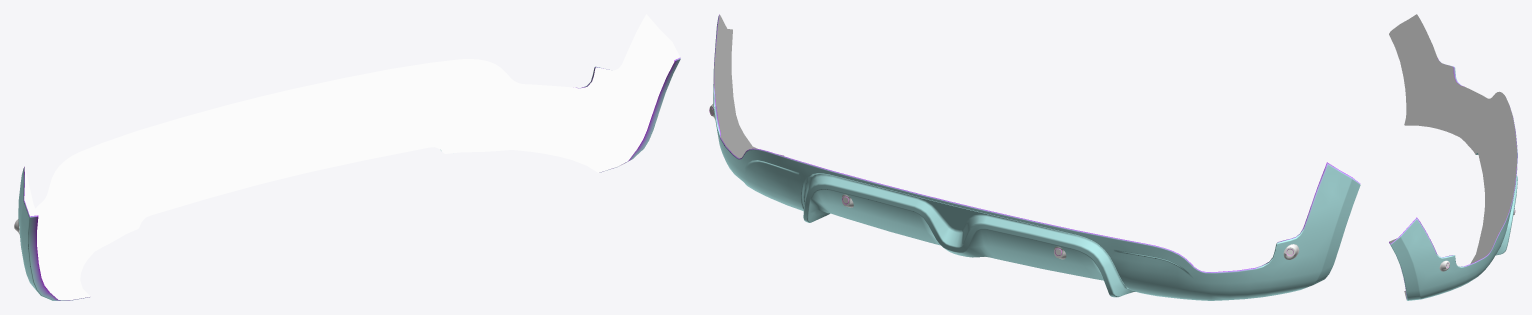
Rendered from Car_Mini_CountrymanJCW_2017_Diffuser_SetA_AltB.fbx.
3 views of the same model, side by side, from view 1: azimuth 30°, elevation 25°; view 2: azimuth 150°, elevation 25°; view 3: azimuth 270°, elevation 25° (orthographic). The views are drawn at different scales.
Visible parts, largest first — view 1: Diffuser 6; view 2: Diffuser 6; view 3: Diffuser 6.
Boxes of the visible parts, bbox=[...] form: Diffuser 6: bbox=[14, 14, 680, 300]; Diffuser 6: bbox=[709, 14, 1360, 300]; Diffuser 6: bbox=[1389, 14, 1517, 300].
Bounding box in the file's own units: 1.74 × 0.3544 × 0.4448.
